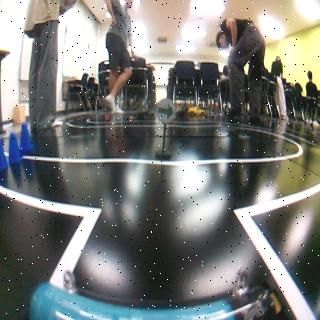right: (156, 97, 174, 122)
